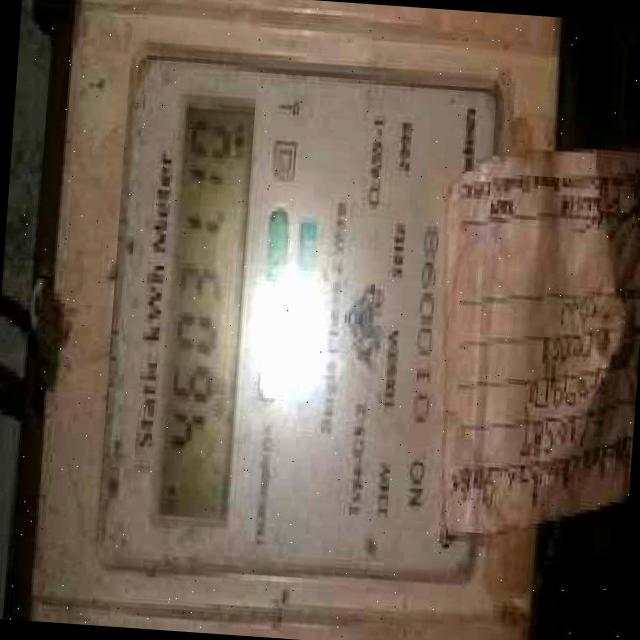LCD: (144, 85, 269, 538)
